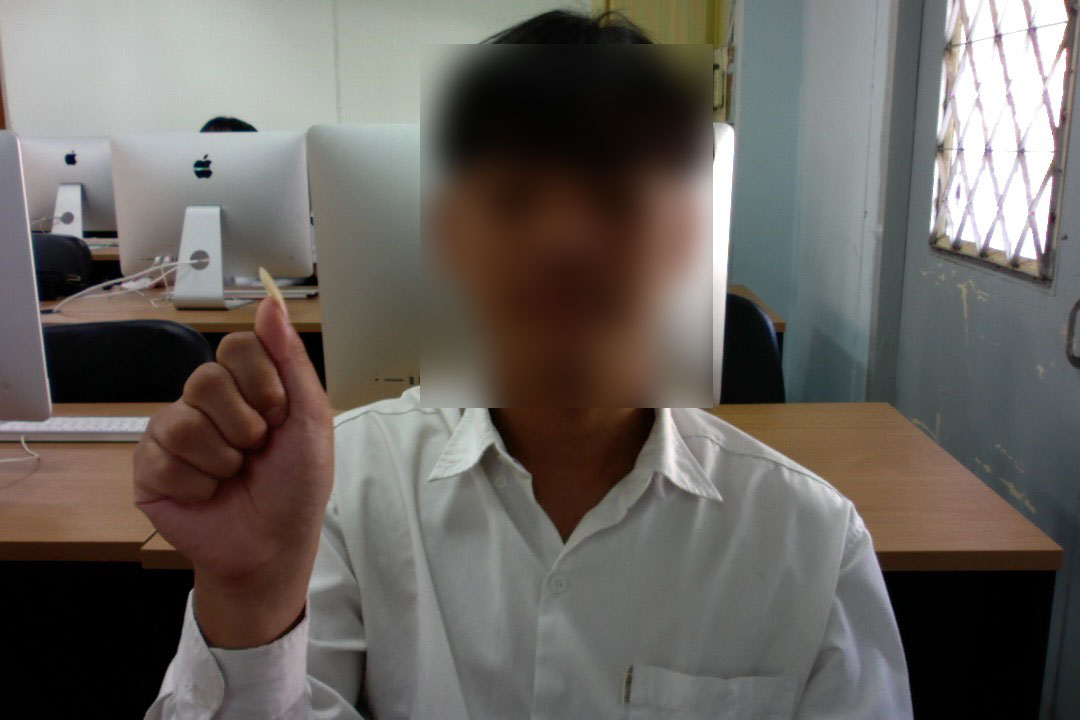or: (120, 255, 343, 606)
